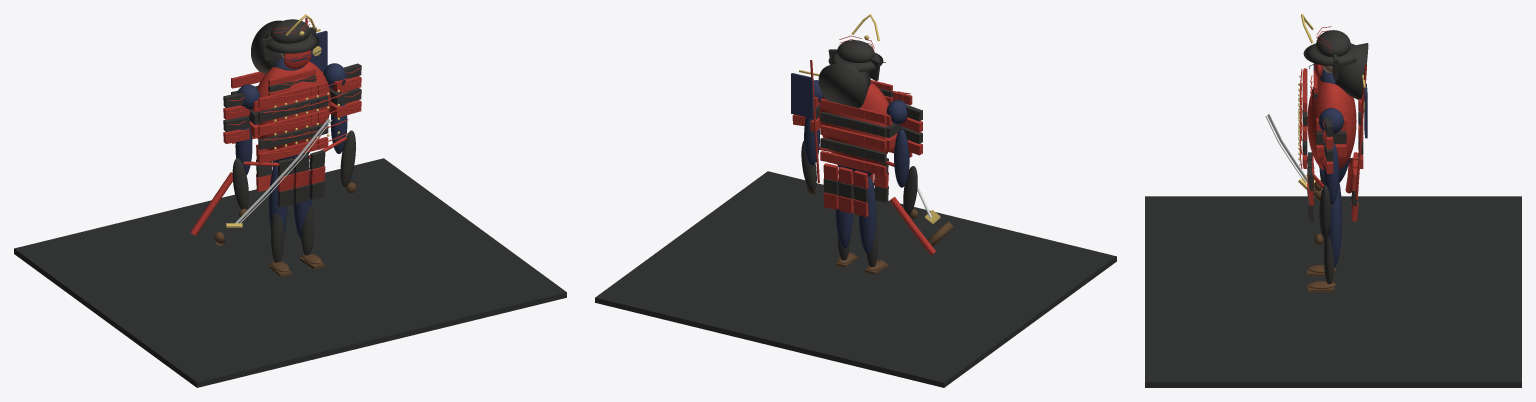
File: takeda-08.glb
3 views of the same model, side by side, from view 1: azimuth 30°, elevation 25°; view 2: azimuth 150°, elevation 25°; view 3: azimuth 270°, elevation 25° (orthographic). The views are drawn at different scales.
Parts seen in each view (by area): view 1: matte charcoal inspection plinth, rounded do cuirass silhouette, rear shikoro neck guard flare, segmented kabuto helmet bowl, right kote forearm guard, left kote forearm guard, wide kabuto brim, left shin greave, left hakama trouser leg, lacquered saya scabbard at left hip, right shin greave, right armored upper arm; view 2: matte charcoal inspection plinth, rear shikoro neck guard flare, rounded do cuirass silhouette, cloth sashimono banner panel, left hakama trouser leg, left armored upper arm, segmented kabuto helmet bowl, right hakama trouser leg, left kote forearm guard, right armored upper arm, lacquered saya scabbard at left hip, right kote forearm guard; view 3: matte charcoal inspection plinth, rounded do cuirass silhouette, rear shikoro neck guard flare, segmented kabuto helmet bowl, right hakama trouser leg, wide kabuto brim, right armored upper arm, right kote forearm guard, right shin greave, right shoulder undercloth, bamboo sashimono back pole.
Boxes of the visible parts, x1,y1,x2,y2 form: matte charcoal inspection plinth: [14, 158, 566, 387]; rounded do cuirass silhouette: [257, 61, 330, 150]; rear shikoro neck guard flare: [251, 20, 282, 74]; segmented kabuto helmet bowl: [270, 19, 310, 43]; right kote forearm guard: [340, 130, 355, 187]; left kote forearm guard: [232, 158, 248, 209]; wide kabuto brim: [261, 33, 319, 53]; left shin greave: [271, 213, 284, 262]; left hakama trouser leg: [269, 166, 287, 234]; lacquered saya scabbard at left hip: [190, 172, 232, 235]; right shin greave: [301, 205, 314, 255]; right armored upper arm: [330, 104, 347, 153]; matte charcoal inspection plinth: [595, 171, 1116, 387]; rear shikoro neck guard flare: [818, 61, 870, 108]; rounded do cuirass silhouette: [819, 82, 888, 163]; cloth sashimono banner panel: [791, 73, 813, 118]; left hakama trouser leg: [859, 176, 876, 253]; left armored upper arm: [894, 129, 909, 187]; segmented kabuto helmet bowl: [837, 40, 874, 62]; right hakama trouser leg: [835, 180, 852, 248]; left kote forearm guard: [903, 166, 917, 215]; right armored upper arm: [804, 117, 819, 165]; lacquered saya scabbard at left hip: [889, 197, 935, 254]; right kote forearm guard: [801, 140, 816, 192]; matte charcoal inspection plinth: [1145, 196, 1521, 387]; rounded do cuirass silhouette: [1307, 78, 1356, 170]; rear shikoro neck guard flare: [1335, 43, 1368, 99]; segmented kabuto helmet bowl: [1316, 30, 1350, 56]; right hakama trouser leg: [1328, 189, 1341, 267]; wide kabuto brim: [1303, 43, 1356, 66]; right armored upper arm: [1323, 142, 1339, 204]; right kote forearm guard: [1319, 185, 1330, 238]; right shin greave: [1324, 235, 1334, 283]; right shoulder undercloth: [1319, 108, 1343, 134]; bamboo sashimono back pole: [1355, 64, 1366, 199].
Size of the model in its own units: 4.2 by 2.96 by 3.6.
